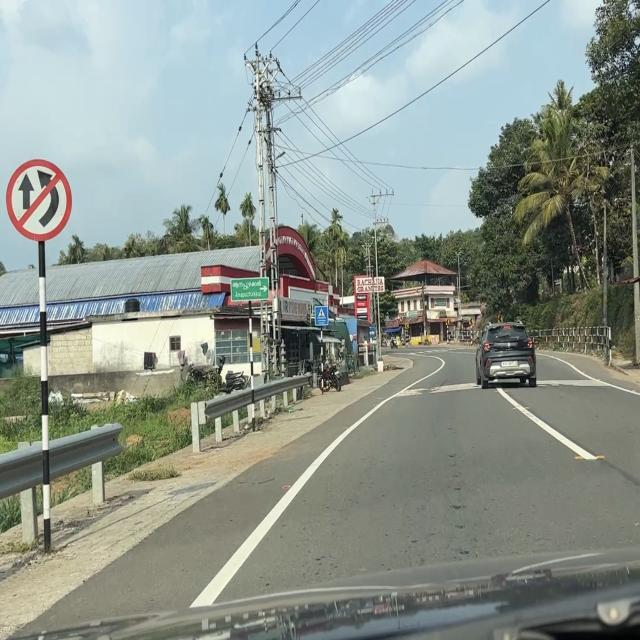GENERAL: (230, 276, 270, 303)
OVERTAKING_PROHIBITED: (5, 157, 73, 242)
PEDESTRIAN_CROSSING: (314, 305, 328, 327)
